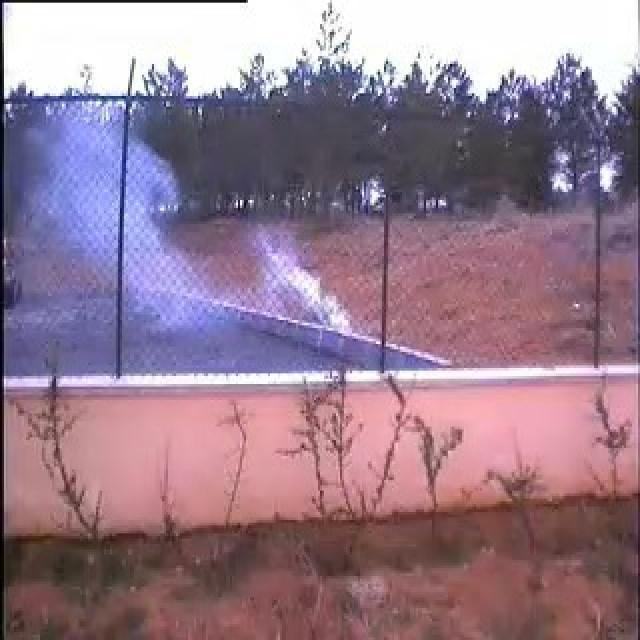Smoke: (41, 102, 360, 340)
